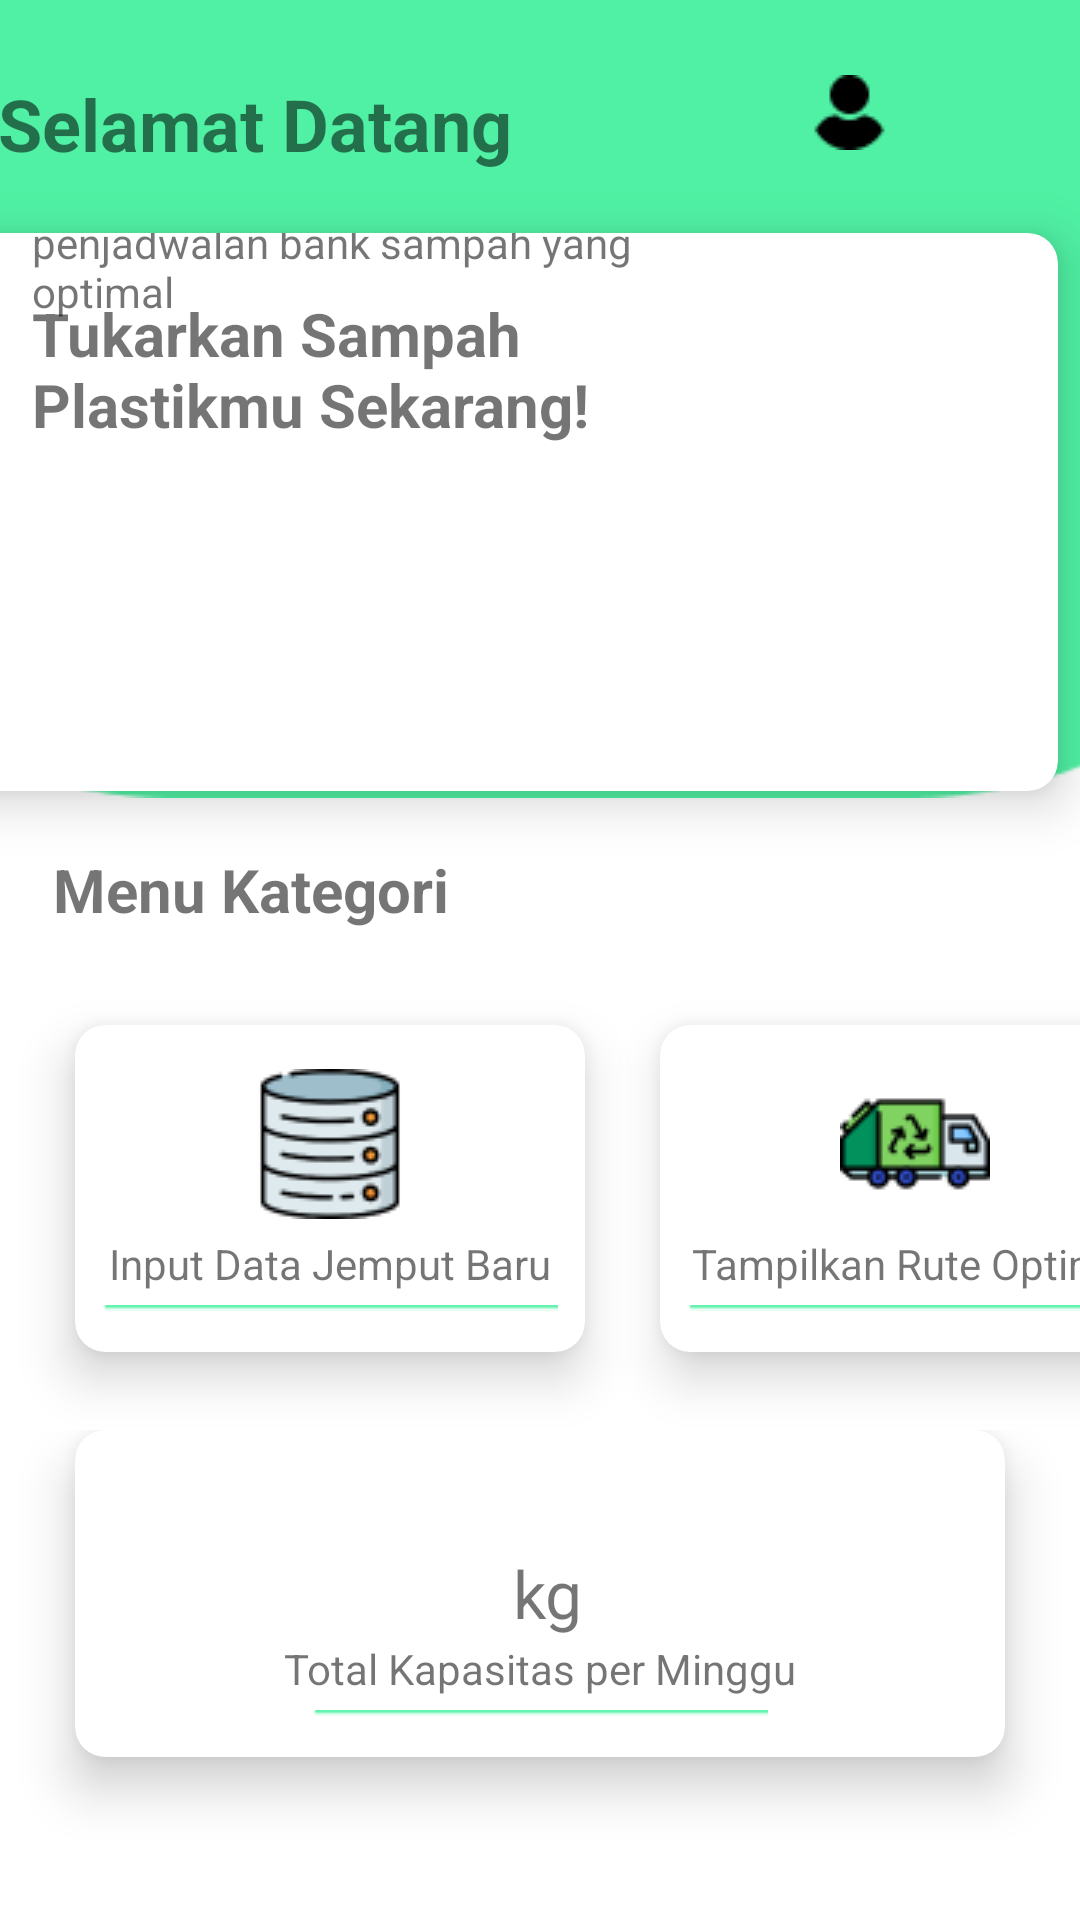

Screen size 1080w x 1920h. Icon name, then its center in pixels as point (x, y):
truck: point (915, 1144)
user: point (849, 112)
